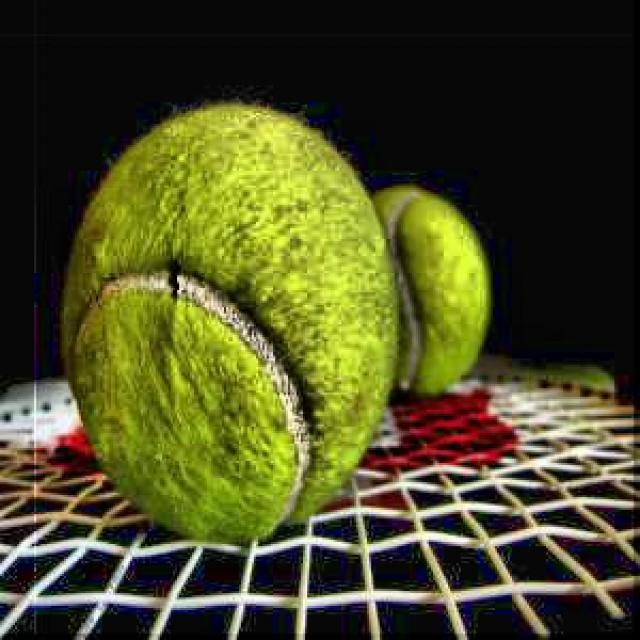tennis-ball: (62, 98, 401, 544), (371, 188, 491, 404)
